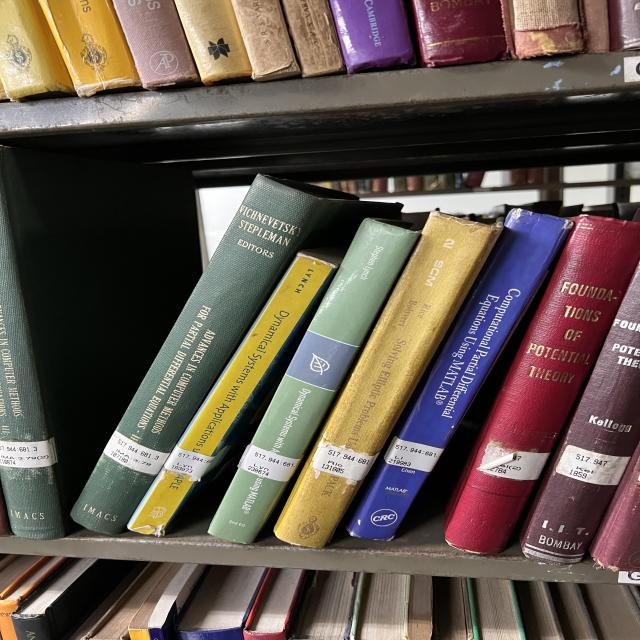Book: (72, 175, 400, 535), (0, 148, 200, 540), (275, 212, 502, 548), (348, 209, 572, 540), (208, 219, 418, 544), (445, 215, 640, 554), (127, 249, 343, 535), (522, 268, 640, 562)
Label: (555, 445, 630, 485), (103, 431, 168, 475), (477, 441, 548, 480), (312, 444, 378, 481), (238, 444, 300, 481), (383, 436, 443, 472), (165, 446, 215, 481), (0, 438, 57, 468)
